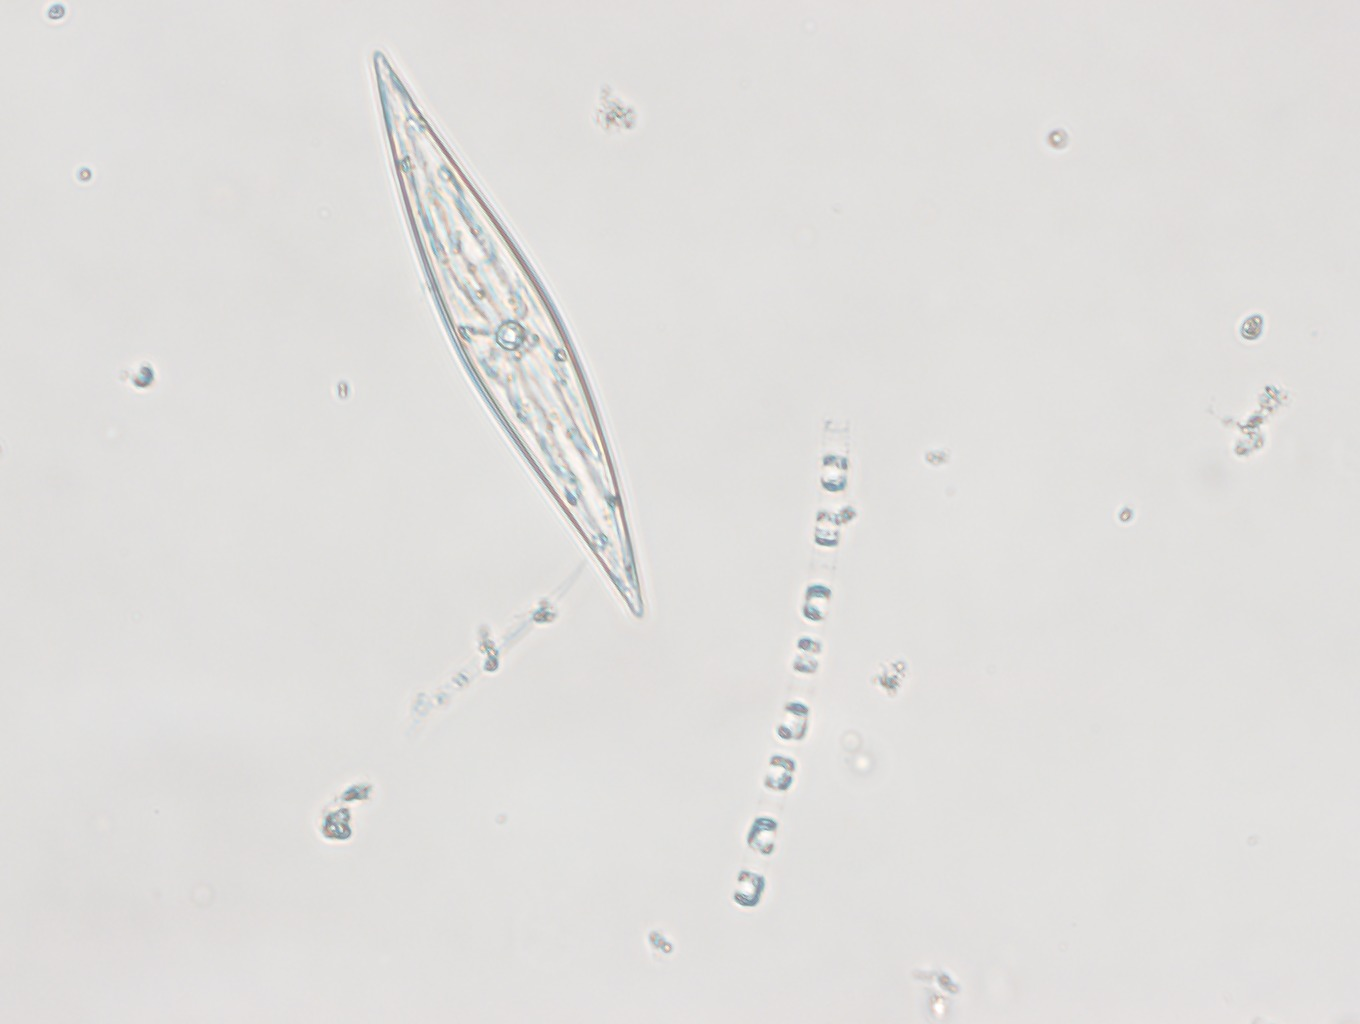pleurosigma pelagicum: (367, 46, 643, 620)
skeletonema: (731, 417, 847, 910)
